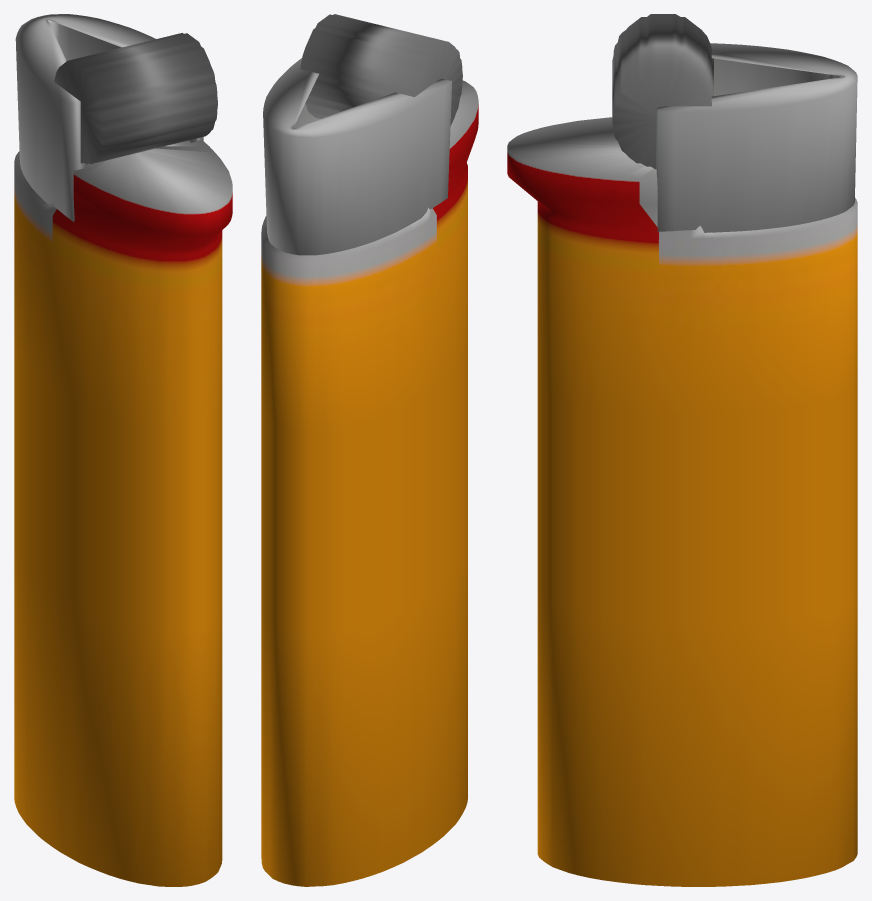
File: Lighter.DAE
3 views of the same model, side by side, from view 1: azimuth 30°, elevation 25°; view 2: azimuth 150°, elevation 25°; view 3: azimuth 270°, elevation 25° (orthographic). The views are drawn at different scales.
Parts seen in each view (by area): view 1: __M_n_B___Lighter_Sculpty_tga001; view 2: __M_n_B___Lighter_Sculpty_tga001; view 3: __M_n_B___Lighter_Sculpty_tga001.
Part boxes in pixels (x1,y1,x2,y2): __M_n_B___Lighter_Sculpty_tga001: (14,14,232,886); __M_n_B___Lighter_Sculpty_tga001: (261,14,478,886); __M_n_B___Lighter_Sculpty_tga001: (507,14,857,886).
Size of the model in its own units: 0.2358 by 0.5047 by 1.29.
